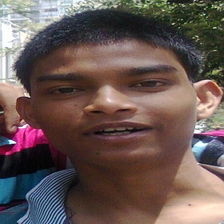no_mask: (32, 54, 195, 160)
